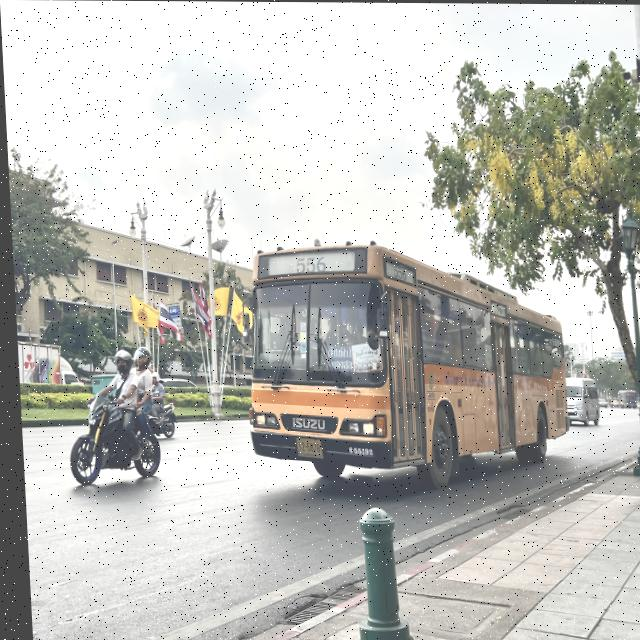BMTA-bus: (238, 242, 568, 490)
Bus-Line-Number: (290, 256, 329, 275), (388, 260, 406, 282)
Destination-Sign-Normal: (322, 345, 350, 371)
TSB-Bus: (618, 391, 634, 406)
